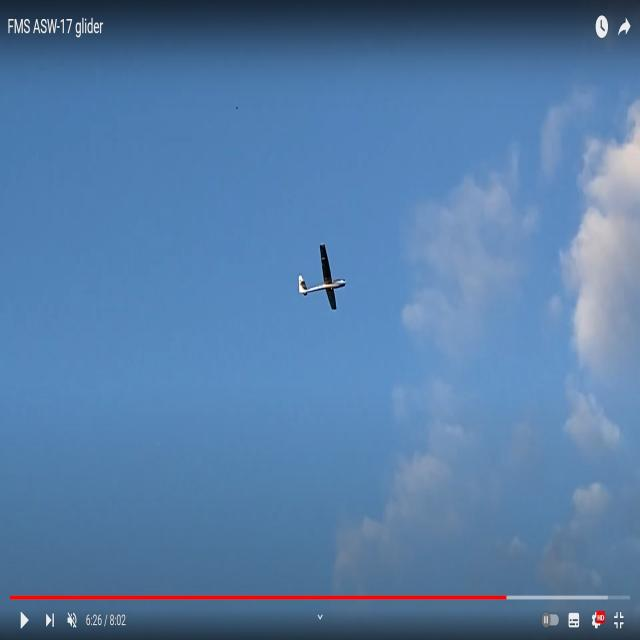iha: (297, 247, 346, 310)
